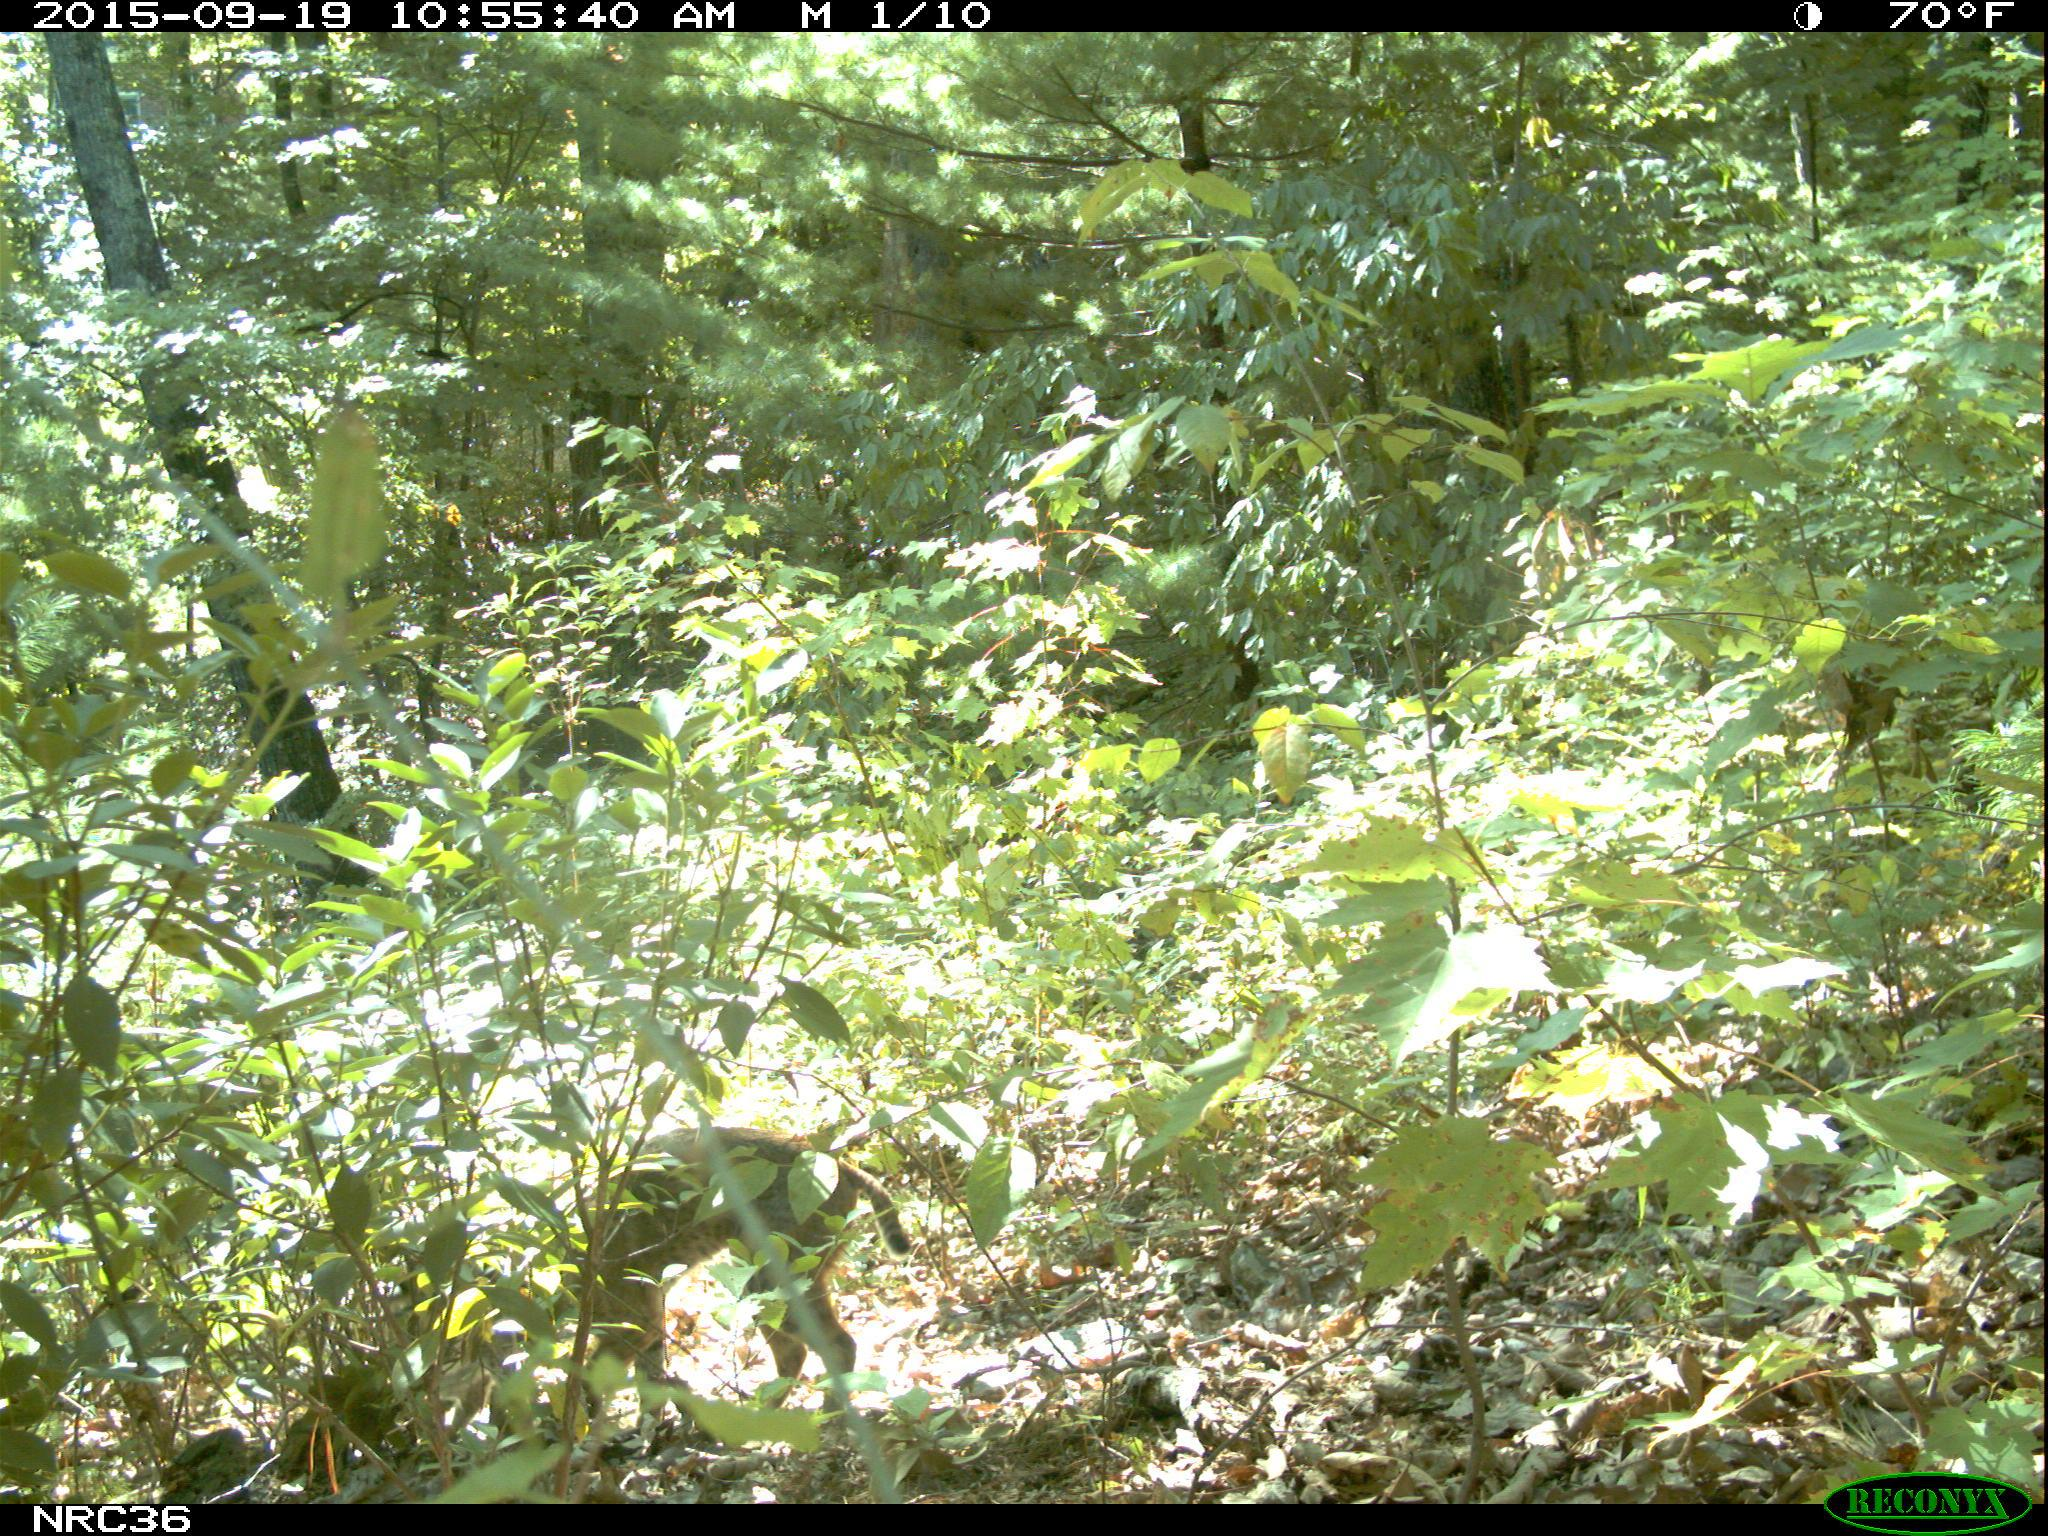Animal: (521, 1125, 906, 1433)
